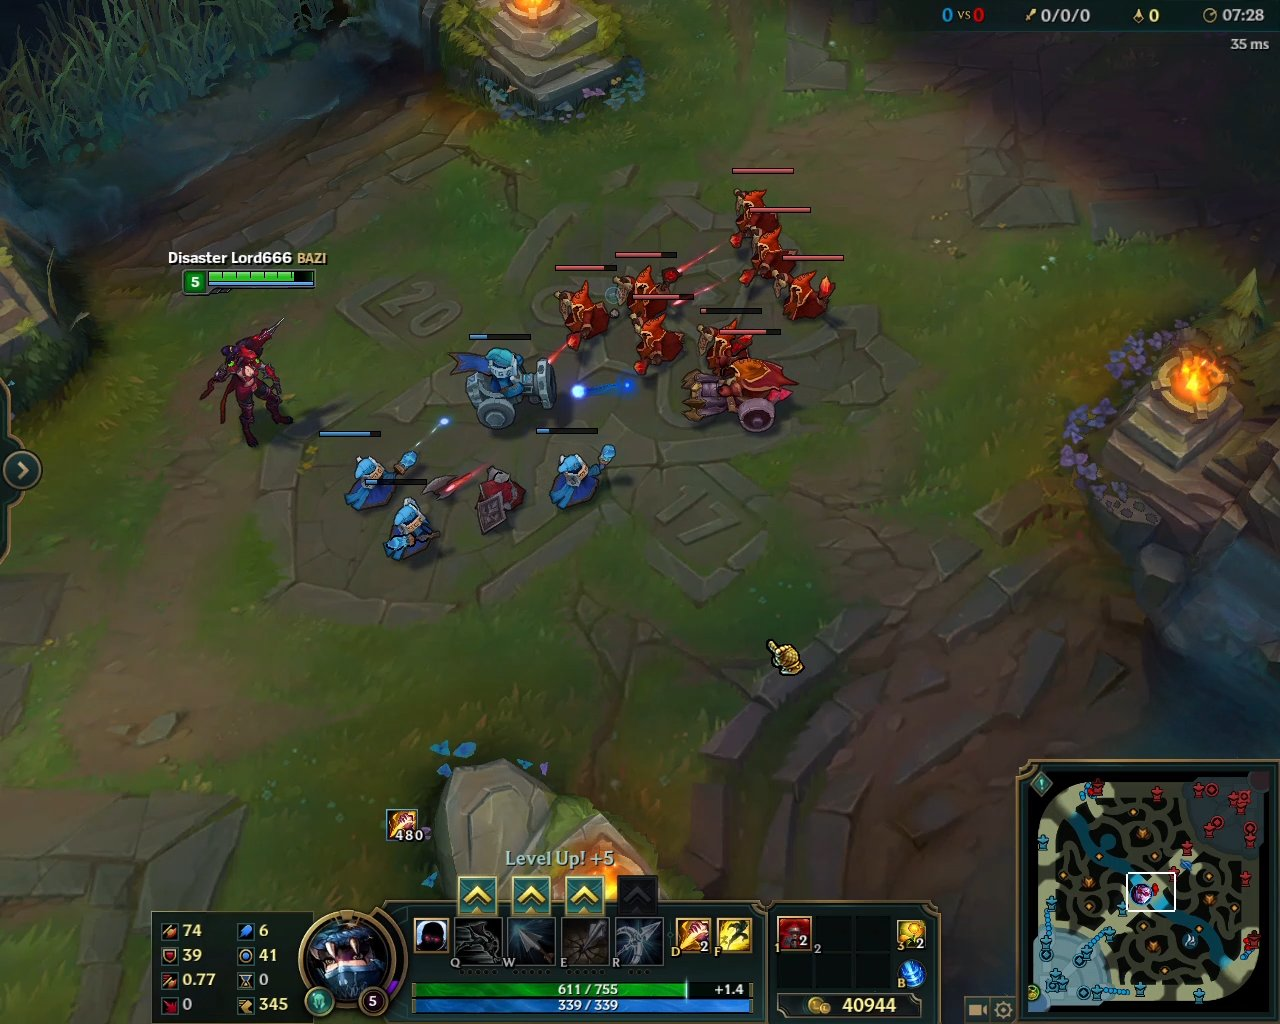EnemyMinion: (674, 327, 806, 440), (737, 206, 811, 289), (612, 247, 684, 327), (553, 264, 618, 352), (629, 294, 694, 378), (769, 254, 846, 324), (730, 168, 794, 249)
Vayne: (196, 315, 299, 466)
